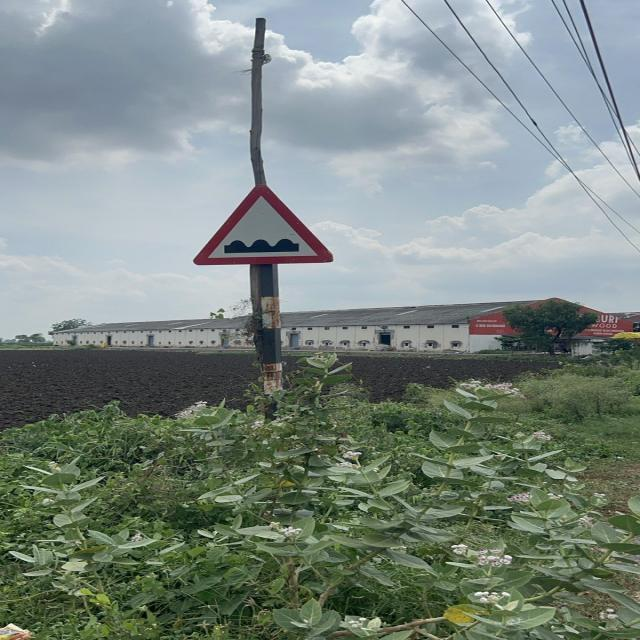hump or rough road: (192, 184, 333, 265)
